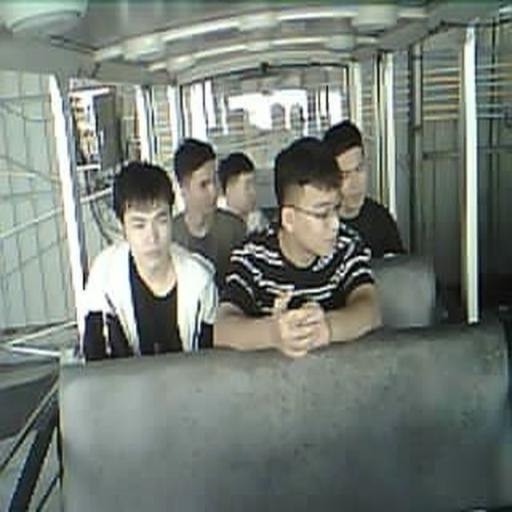persona: (213, 136, 384, 358), (78, 160, 220, 361), (170, 137, 248, 291), (322, 119, 406, 260), (216, 150, 258, 232)
